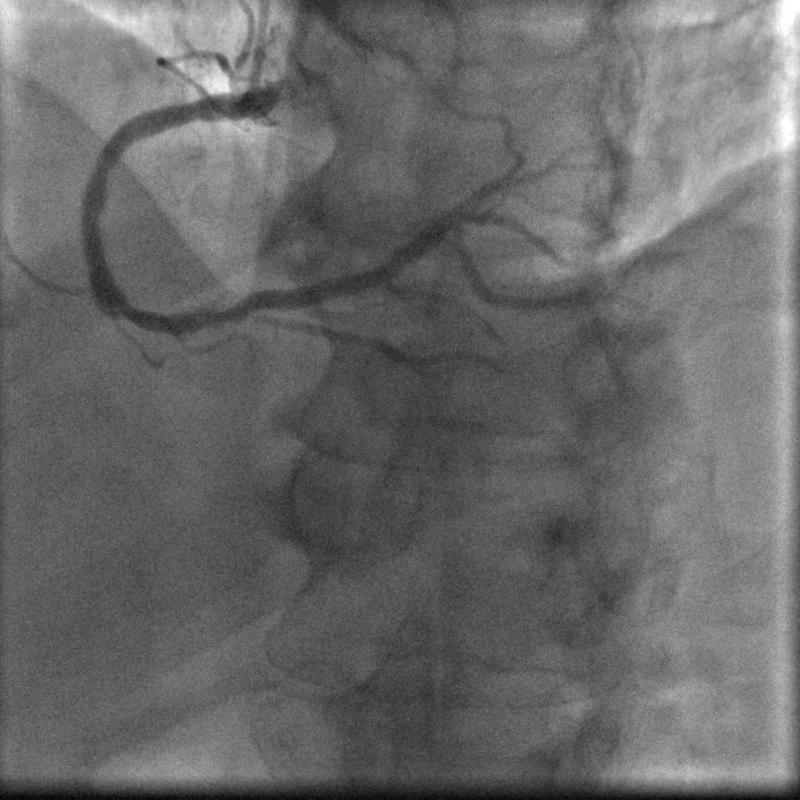Stenosis: (180, 290, 264, 327)
